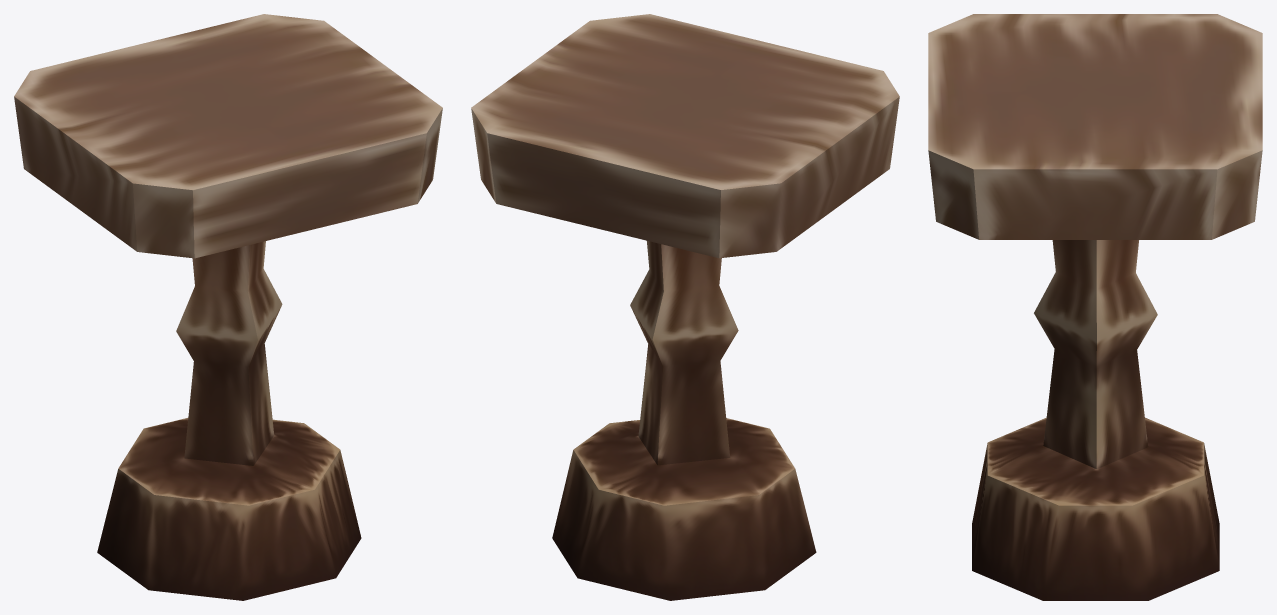
The model's file is Vampire_Village_Props_10.FBX.
3 views of the same model, side by side, from view 1: azimuth 30°, elevation 25°; view 2: azimuth 150°, elevation 25°; view 3: azimuth 270°, elevation 25° (orthographic). The views are drawn at different scales.
Parts seen in each view (by area): view 1: Vampire_Village_Props_10; view 2: Vampire_Village_Props_10; view 3: Vampire_Village_Props_10.
Boxes of the visible parts, bbox=[...] form: Vampire_Village_Props_10: bbox=[14, 14, 442, 600]; Vampire_Village_Props_10: bbox=[471, 14, 899, 600]; Vampire_Village_Props_10: bbox=[928, 14, 1262, 600].
Size of the model in its own units: 73.34 by 100 by 66.7.
